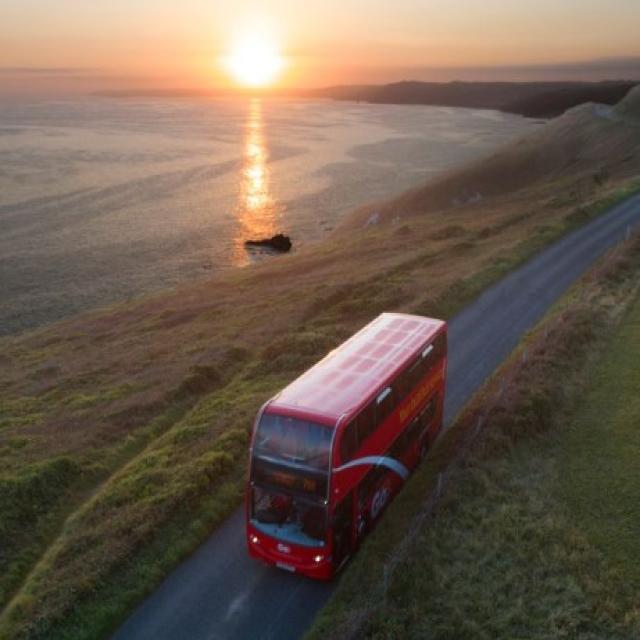bus: (244, 311, 450, 584)
